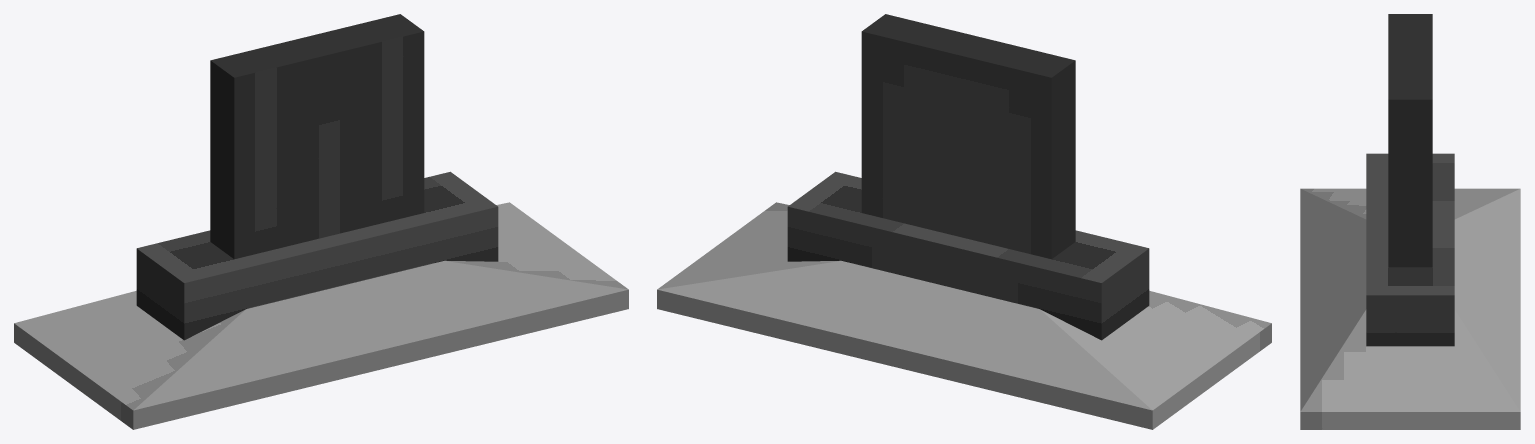
File: extractor fan.fbx
3 renders of one model, left to right at view 1: azimuth 30°, elevation 25°; view 2: azimuth 150°, elevation 25°; view 3: azimuth 270°, elevation 25°, orthographic. The views are drawn at different scales.
Parts seen in each view (by area): view 1: cube_2, pyramid, cube_1, cube; view 2: cube_2, pyramid, cube_1, cube; view 3: pyramid, cube_1, cube_2, cube.
Boxes of the visible parts, x1=… form: cube_2: x1=210, y1=14, x2=424, y2=259; pyramid: x1=14, y1=202, x2=628, y2=410; cube_1: x1=136, y1=171, x2=498, y2=340; cube: x1=14, y1=289, x2=628, y2=429; cube_2: x1=861, y1=14, x2=1075, y2=259; pyramid: x1=657, y1=202, x2=1271, y2=410; cube_1: x1=787, y1=171, x2=1149, y2=340; cube: x1=657, y1=289, x2=1271, y2=429; pyramid: x1=1300, y1=188, x2=1520, y2=411; cube_1: x1=1366, y1=153, x2=1454, y2=346; cube_2: x1=1388, y1=14, x2=1432, y2=267; cube: x1=1300, y1=412, x2=1520, y2=429.
Size of the model in its own units: 75 by 40.62 by 31.25.
Materials: 1 (1 with a texture image).
